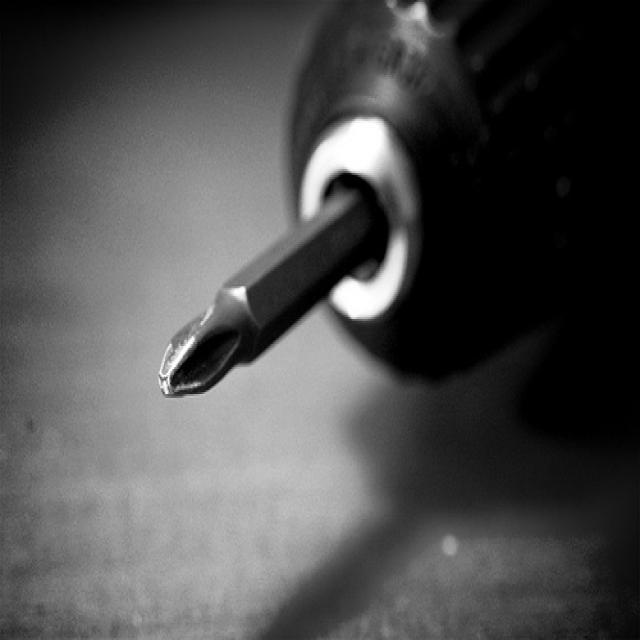screw driver: (91, 155, 435, 436)
